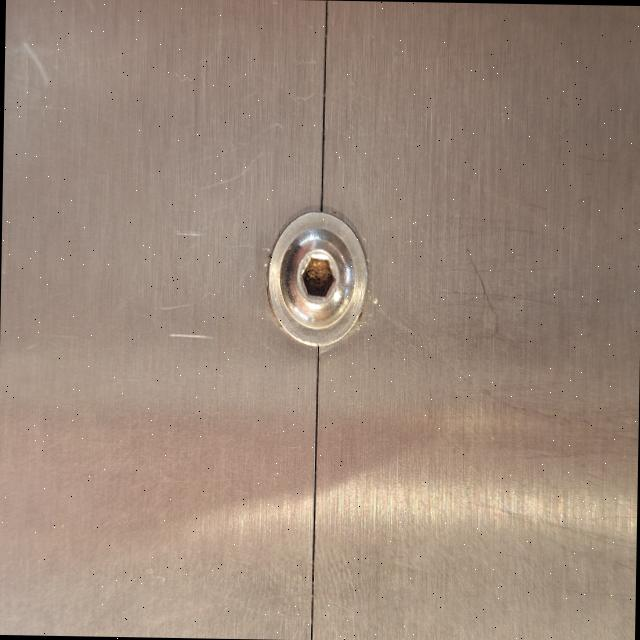Hex Socket Allen: (248, 200, 379, 358)
